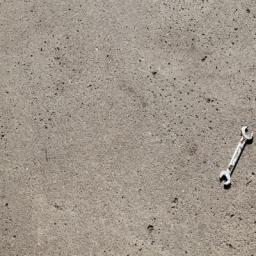FOD: (218, 121, 256, 193)
